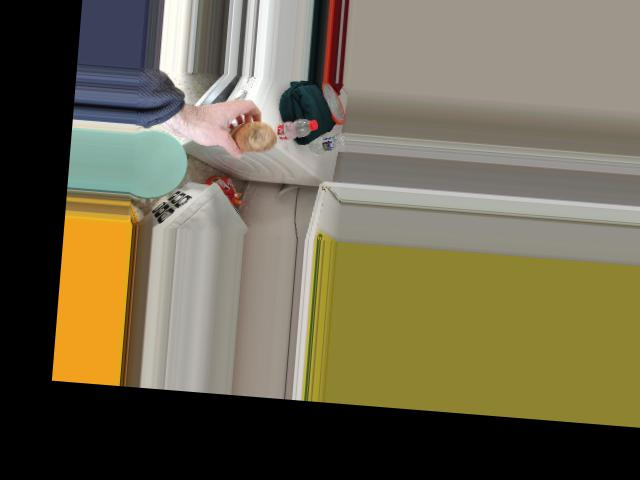sweet_potato: (222, 111, 276, 157)
